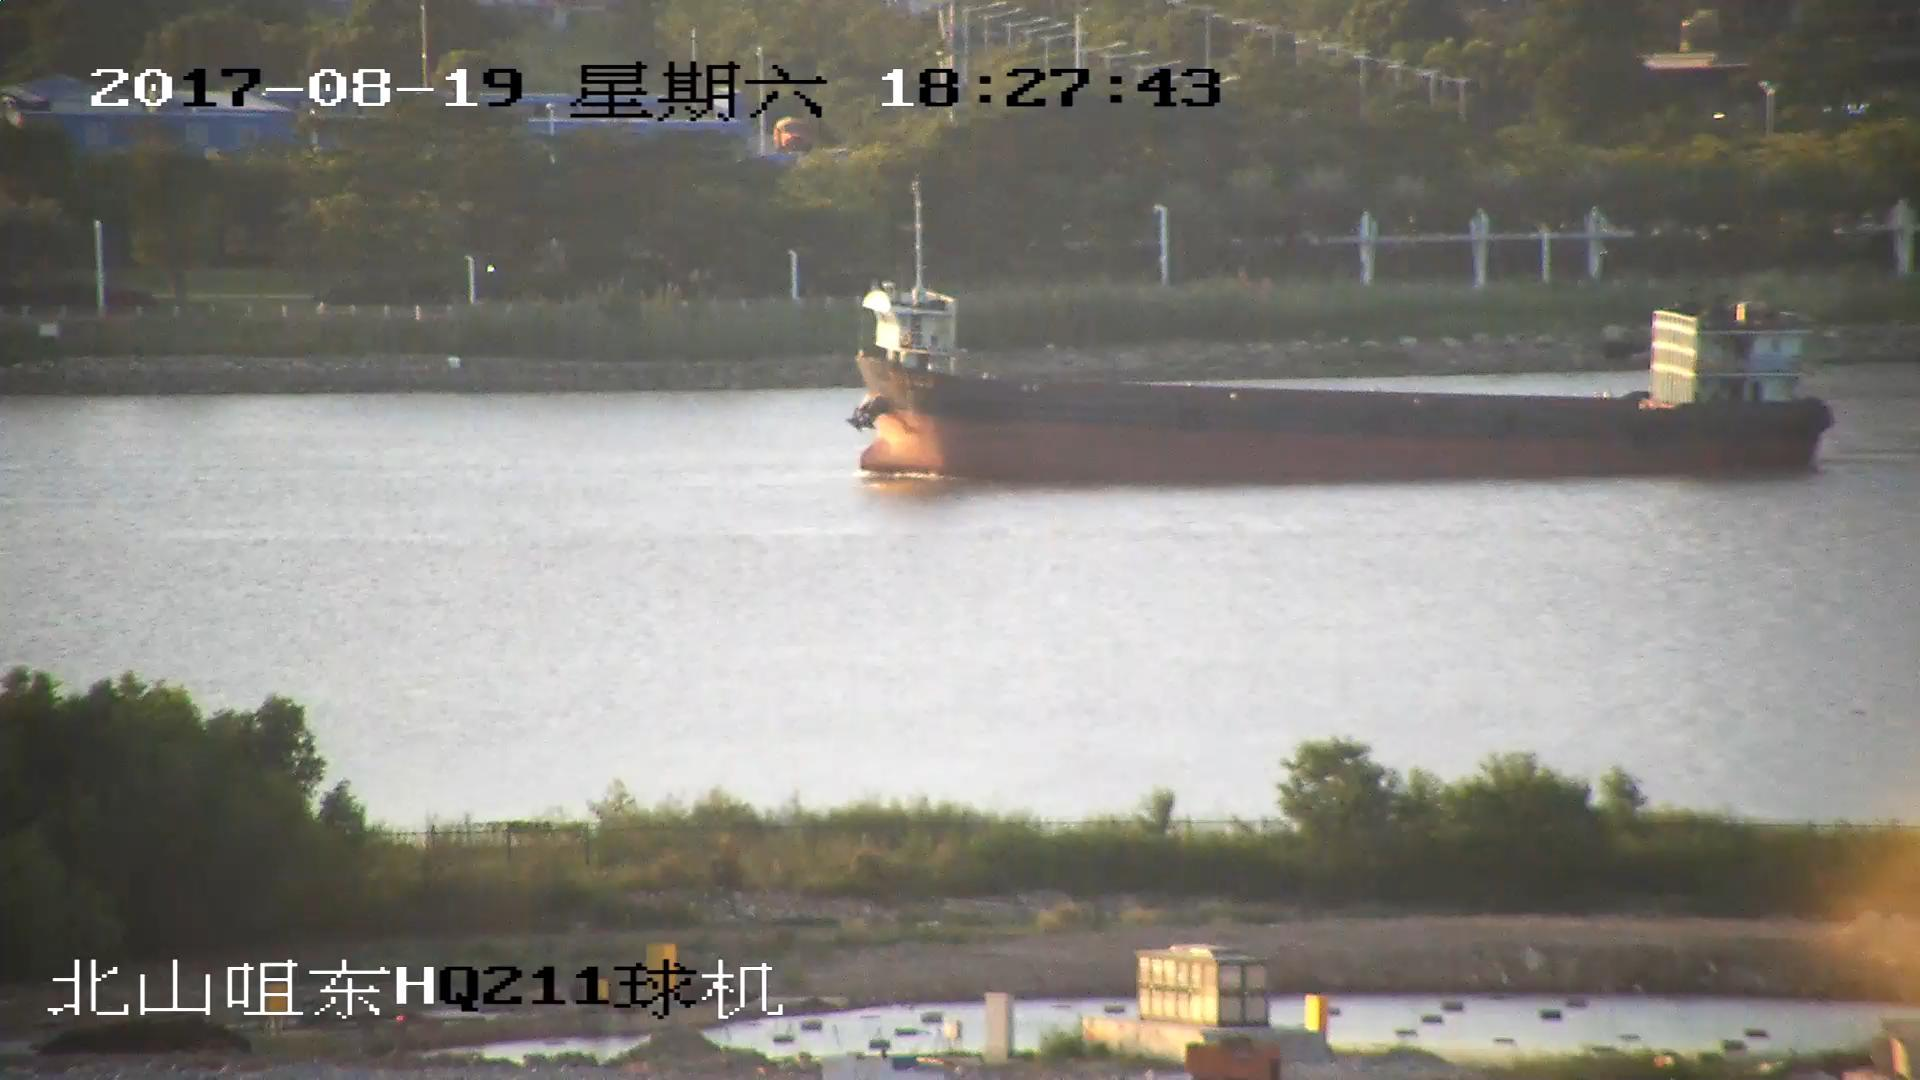Ship: (845, 286, 1824, 484)
